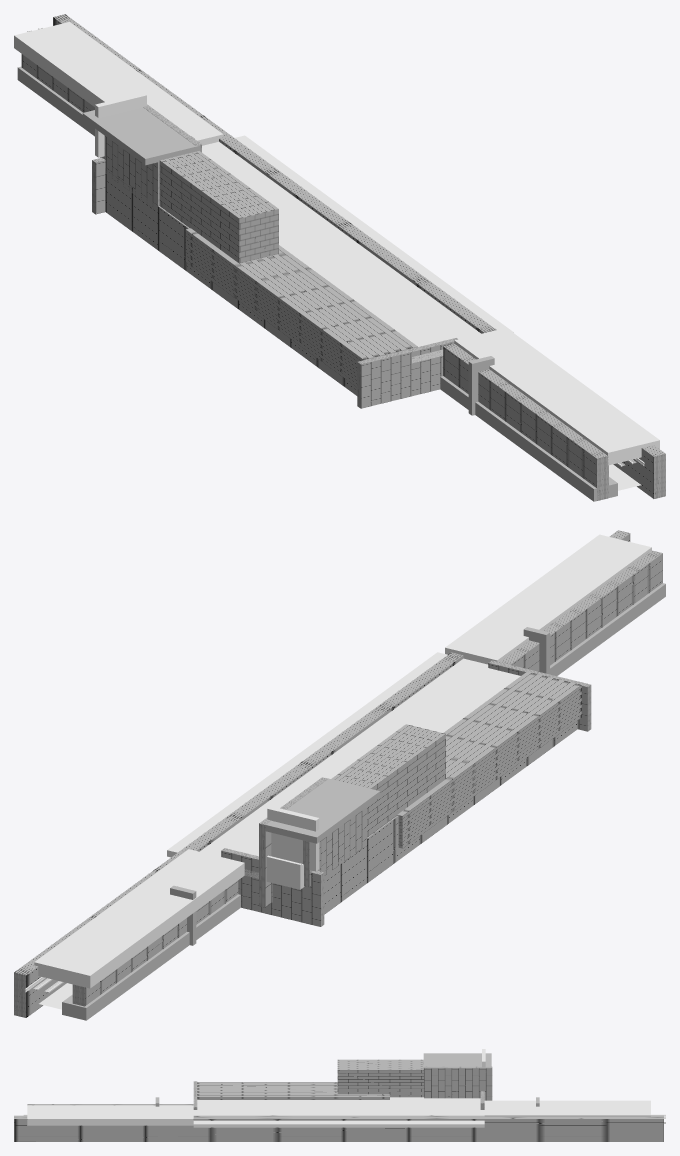
File: subway2.fbx
3 renders of one model, top to bottom at view 1: azimuth 30°, elevation 25°; view 2: azimuth 150°, elevation 25°; view 3: azimuth 270°, elevation 25°, orthographic. The views are drawn at different scales.
Parts seen in each view (by area): view 1: up (×6), Cube (9), Cube (2) (×2), Cube (39), Cube, Cube (3) (×2), Cube (11), Cube (38), Cube (6), Cube (5); view 2: up (×6), Cube (9), Cube (2) (×2), Cube (39), Cube, Cube (3) (×2), Cube (6), Cube (38), Cube (11), Cube (1), Stairs; view 3: up (×5), Cube (2), Cube (9), Cube (1), Cube (39).
Boxes of the visible parts, bbox=[...] form: up (×6): bbox=[14, 22, 659, 465]; Cube (9): bbox=[185, 228, 417, 386]; Cube (2) (×2): bbox=[53, 14, 665, 501]; Cube (39): bbox=[443, 343, 608, 500]; Cube: bbox=[105, 168, 357, 395]; Cube (3) (×2): bbox=[17, 66, 457, 408]; Cube (11): bbox=[95, 93, 146, 157]; Cube (38): bbox=[21, 54, 94, 112]; Cube (6): bbox=[92, 136, 194, 214]; Cube (5): bbox=[468, 356, 494, 415]; up (×6): bbox=[34, 534, 651, 988]; Cube (9): bbox=[397, 672, 581, 848]; Cube (2) (×2): bbox=[14, 530, 665, 1017]; Cube (39): bbox=[499, 550, 662, 671]; Cube: bbox=[324, 721, 577, 914]; Cube (3) (×2): bbox=[62, 660, 591, 1020]; Cube (6): bbox=[221, 848, 324, 926]; Cube (38): bbox=[72, 880, 238, 1006]; Cube (11): bbox=[267, 806, 319, 871]; Cube (1): bbox=[259, 777, 327, 907]; Stairs: bbox=[266, 855, 304, 889]; up (×5): bbox=[27, 1053, 650, 1127]; Cube (2): bbox=[14, 1115, 663, 1141]; Cube (9): bbox=[197, 1082, 389, 1099]; Cube (1): bbox=[424, 1066, 492, 1100]; Cube (39): bbox=[27, 1104, 193, 1105].
Bounding box in the file's own units: 25.74 × 16.69 × 173.
